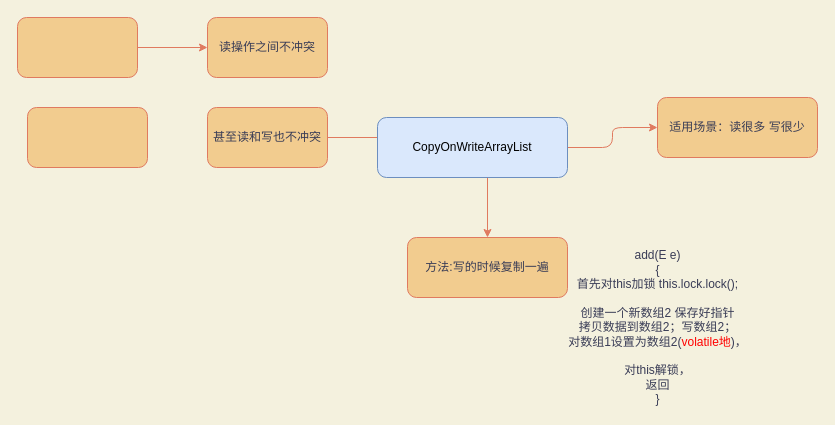
Image size: 835x425. Some labels were removed from this diagram. The shapes that lost their labels are listed below. From the top down, each one's centre as x and y in pixels, then its label:
At pixel 77 47: "读写锁".
At pixel 87 137: "更进一步".
